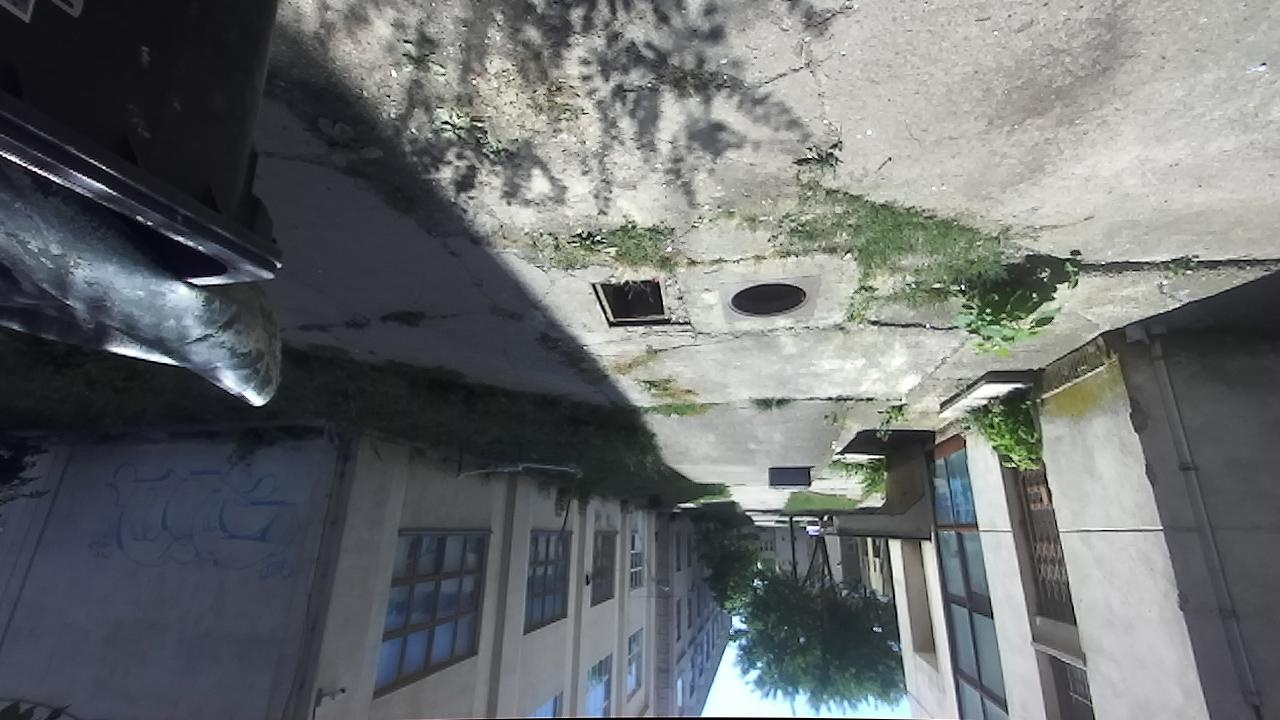drain: (587, 276, 688, 325), (722, 283, 811, 318)
